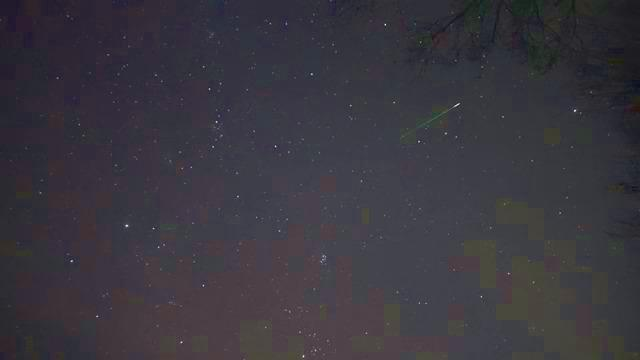meteorite: (387, 99, 475, 141)
